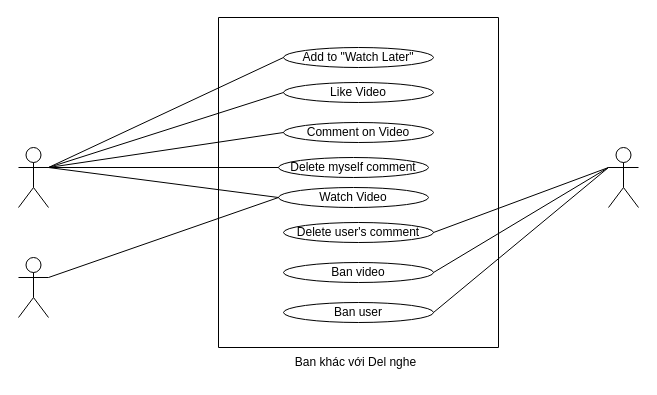
Image size: 657x395. Some labels were removed from this diagram. Each missing label, with the centre of its shape:
Admin: point 623,177
Guest: point 33,287
User: point 33,177
